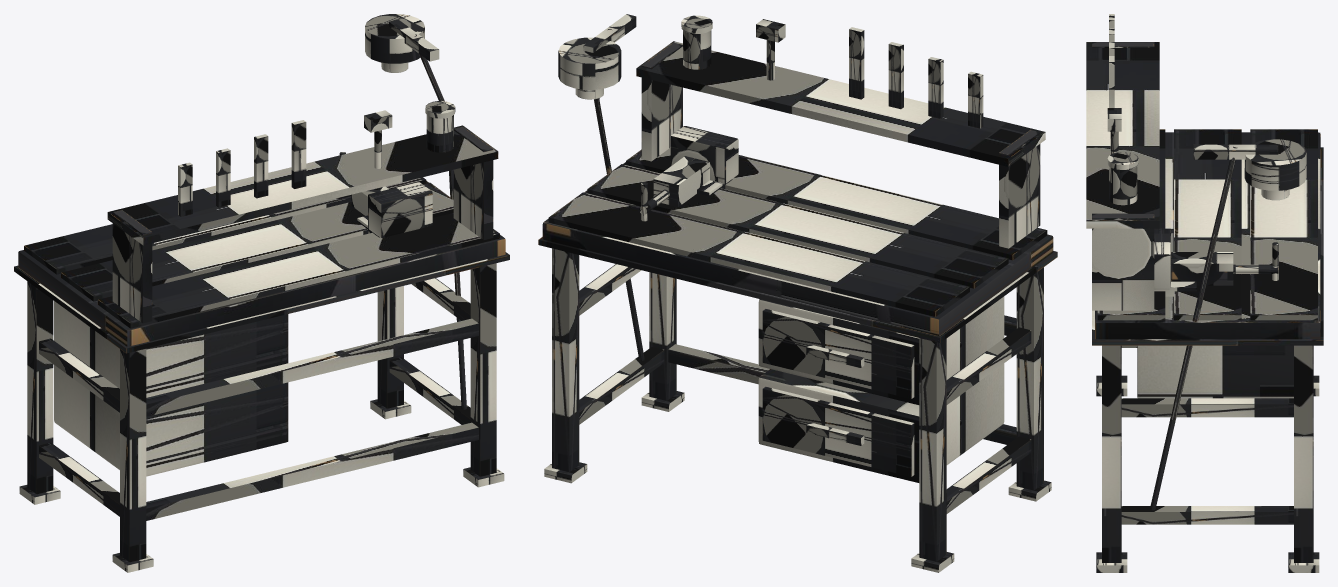
File: DD_workbench.glb
The picture shows the model from 3 angles, left to right: view 1: azimuth 30°, elevation 25°; view 2: azimuth 150°, elevation 25°; view 3: azimuth 270°, elevation 25°; orthographic projection. The views are drawn at different scales.
Visible parts, largest first — view 1: DD_workbench; view 2: DD_workbench; view 3: DD_workbench.
Part boxes in pixels (bbox=[...]): DD_workbench: bbox=[14, 14, 509, 572]; DD_workbench: bbox=[538, 14, 1057, 572]; DD_workbench: bbox=[1086, 14, 1323, 572].
Size of the model in its own units: 1.62 by 1.62 by 0.84.
Materials: 1 (1 with a texture image).
